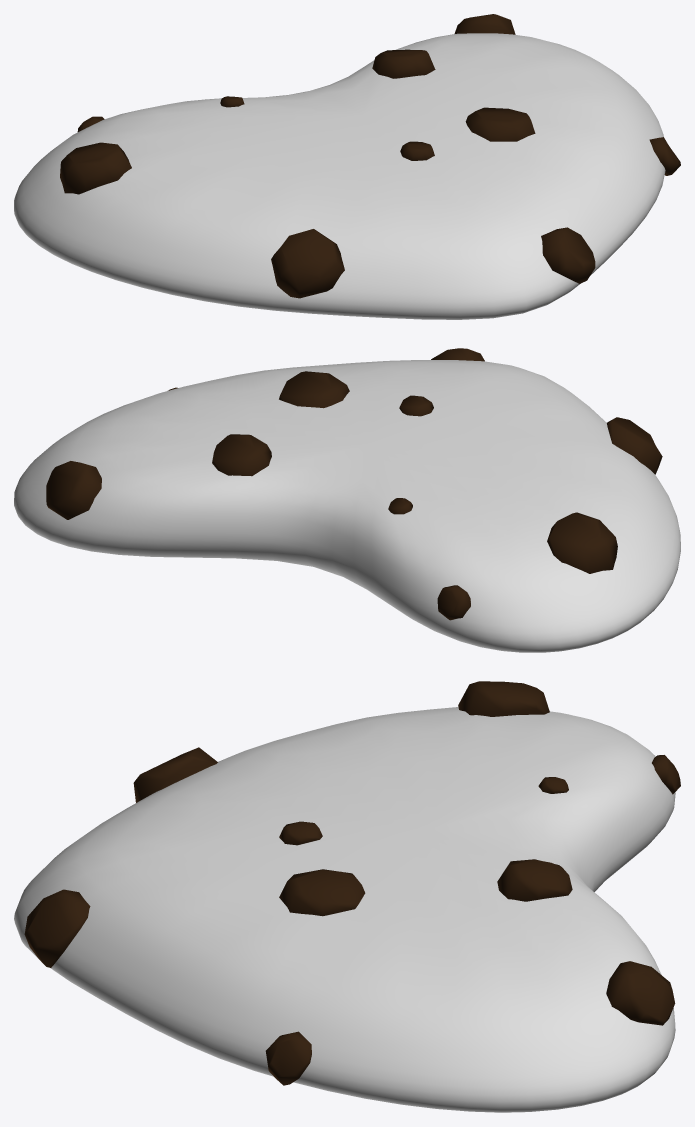
The model's file is Cookie1.fbx.
The picture shows the model from 3 angles, top to bottom: view 1: azimuth 30°, elevation 25°; view 2: azimuth 150°, elevation 25°; view 3: azimuth 270°, elevation 25°; orthographic projection. The views are drawn at different scales.
Parts seen in each view (by area): view 1: HeartCookie1, ChocolateChip.003, ChocolateChip.001, ChocolateChip.007, ChocolateChip.002, ChocolateChip.006, ChocolateChip.005, ChocolateChip.008, ChocolateChip.004; view 2: HeartCookie1, ChocolateChip.001, ChocolateChip.005, ChocolateChip.006, ChocolateChip.002, ChocolateChip.003, ChocolateChip.030, ChocolateChip.004, ChocolateChip.007; view 3: HeartCookie1, ChocolateChip.005, ChocolateChip.007, ChocolateChip.002, ChocolateChip.001, ChocolateChip.006, ChocolateChip.003, ChocolateChip.008, ChocolateChip.004, ChocolateChip.030.
Boxes of the visible parts, x1=… form: HeartCookie1: x1=14, y1=33, x2=665, y2=319; ChocolateChip.003: x1=271, y1=229, x2=344, y2=298; ChocolateChip.001: x1=60, y1=142, x2=131, y2=194; ChocolateChip.007: x1=541, y1=227, x2=595, y2=283; ChocolateChip.002: x1=465, y1=107, x2=535, y2=141; ChocolateChip.006: x1=372, y1=49, x2=435, y2=78; ChocolateChip.005: x1=454, y1=14, x2=515, y2=34; ChocolateChip.008: x1=649, y1=137, x2=680, y2=175; ChocolateChip.004: x1=400, y1=141, x2=434, y2=160; HeartCookie1: x1=14, y1=360, x2=680, y2=652; ChocolateChip.001: x1=547, y1=512, x2=617, y2=573; ChocolateChip.005: x1=46, y1=461, x2=101, y2=519; ChocolateChip.006: x1=212, y1=434, x2=271, y2=476; ChocolateChip.002: x1=279, y1=371, x2=349, y2=408; ChocolateChip.003: x1=607, y1=417, x2=662, y2=474; ChocolateChip.030: x1=437, y1=585, x2=470, y2=620; ChocolateChip.004: x1=399, y1=395, x2=433, y2=416; ChocolateChip.007: x1=431, y1=348, x2=484, y2=361; HeartCookie1: x1=14, y1=707, x2=675, y2=1112; ChocolateChip.005: x1=606, y1=961, x2=675, y2=1025; ChocolateChip.007: x1=24, y1=889, x2=90, y2=967; ChocolateChip.002: x1=279, y1=869, x2=365, y2=916; ChocolateChip.001: x1=458, y1=681, x2=549, y2=716; ChocolateChip.006: x1=497, y1=859, x2=572, y2=901; ChocolateChip.003: x1=133, y1=747, x2=217, y2=802; ChocolateChip.008: x1=265, y1=1031, x2=311, y2=1085; ChocolateChip.004: x1=279, y1=821, x2=322, y2=845; ChocolateChip.030: x1=652, y1=755, x2=680, y2=794.
Bounding box in the file's own units: 174 × 28.59 × 134.
